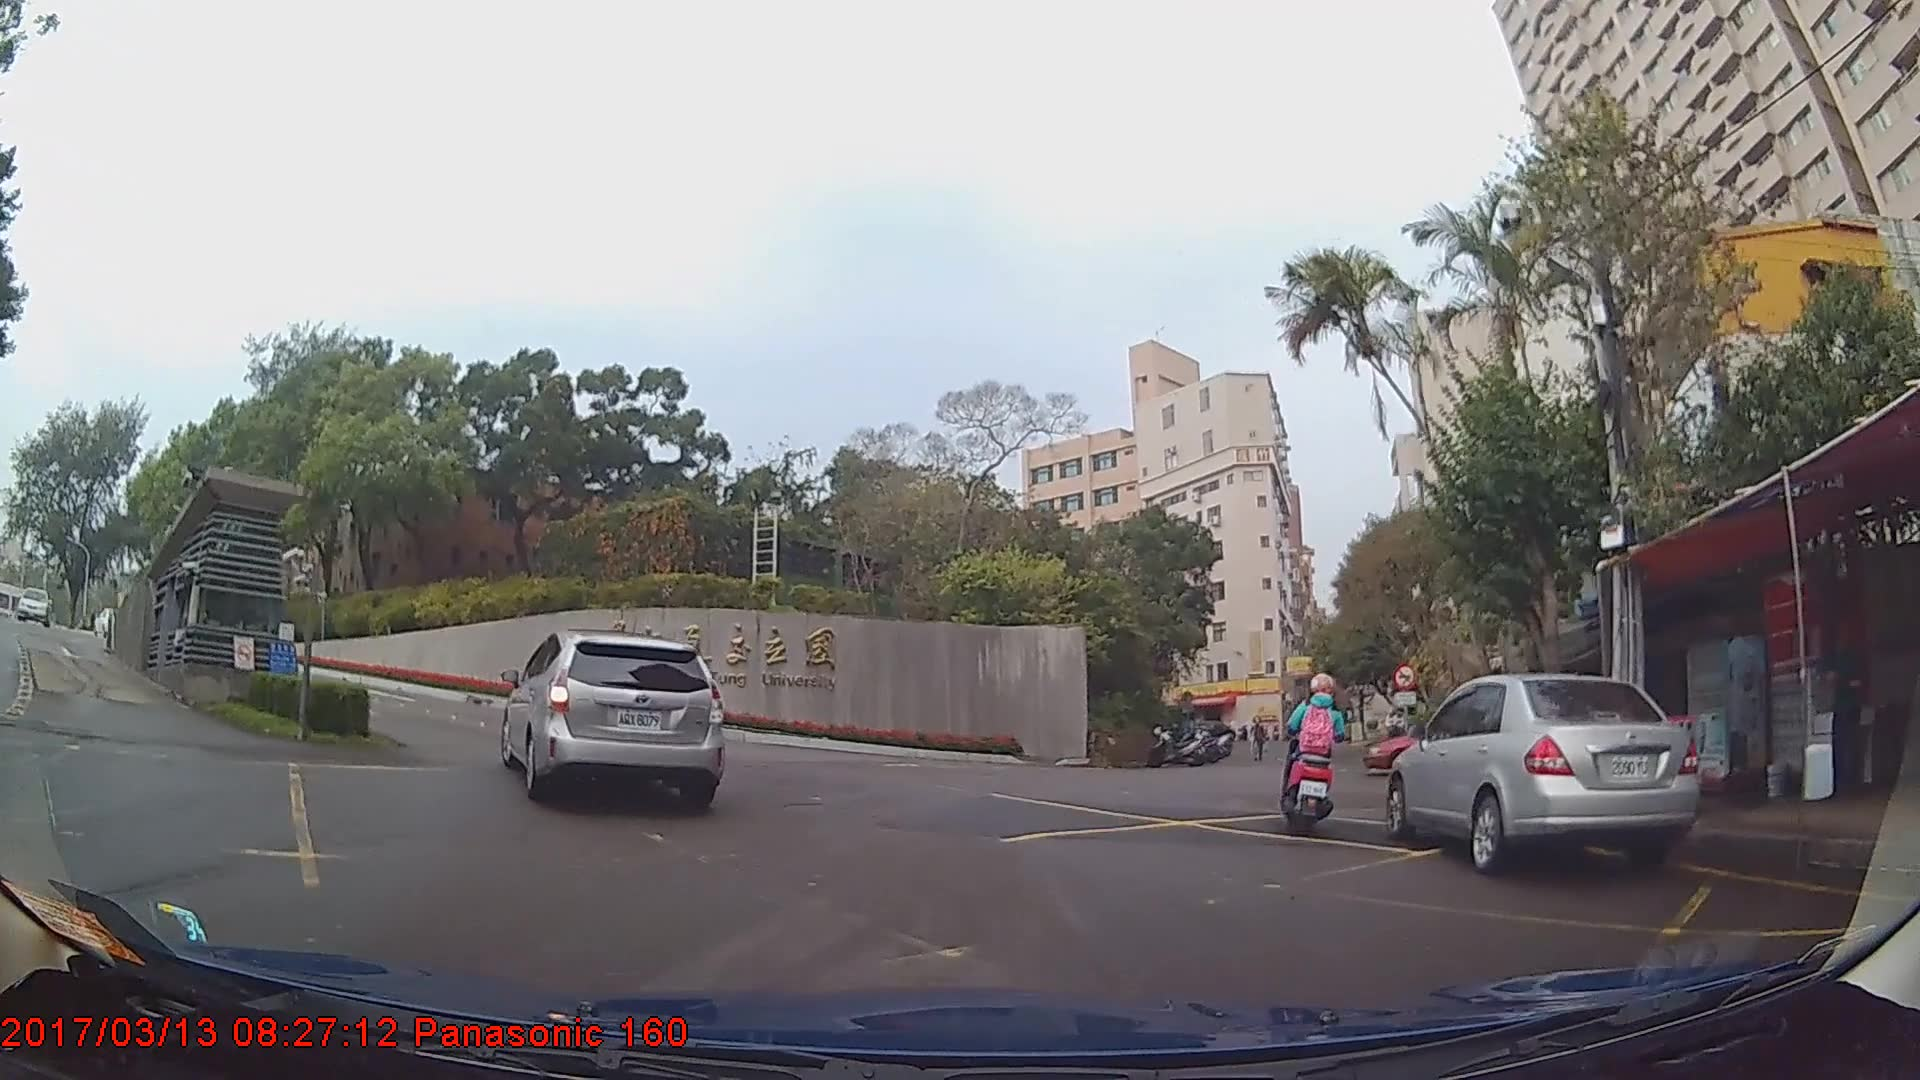pedestrian: (1816, 627, 1874, 799), (1249, 714, 1269, 760)
rider: (1276, 666, 1348, 837)
vehicle: (1385, 672, 1701, 875), (498, 628, 722, 808), (1361, 715, 1506, 774), (15, 583, 52, 623)
